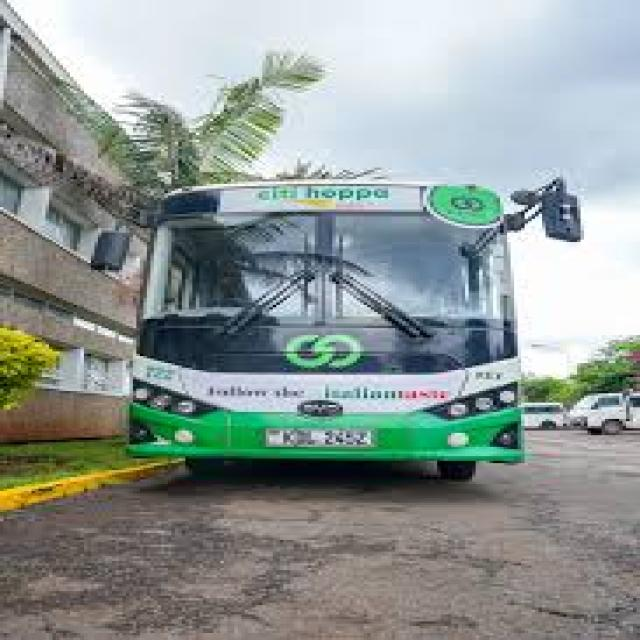bus: (82, 131, 620, 522)
